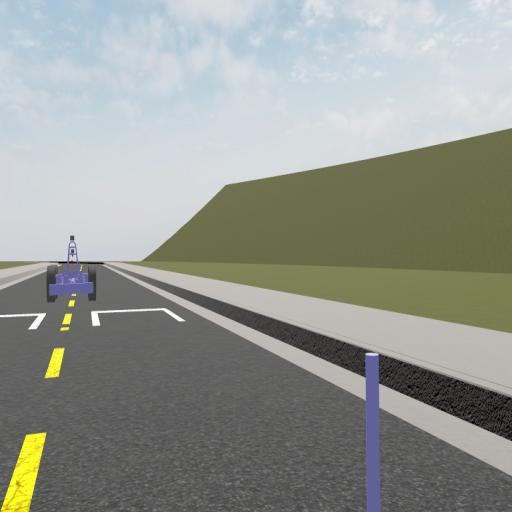ERP-42: (46, 234, 96, 302)
